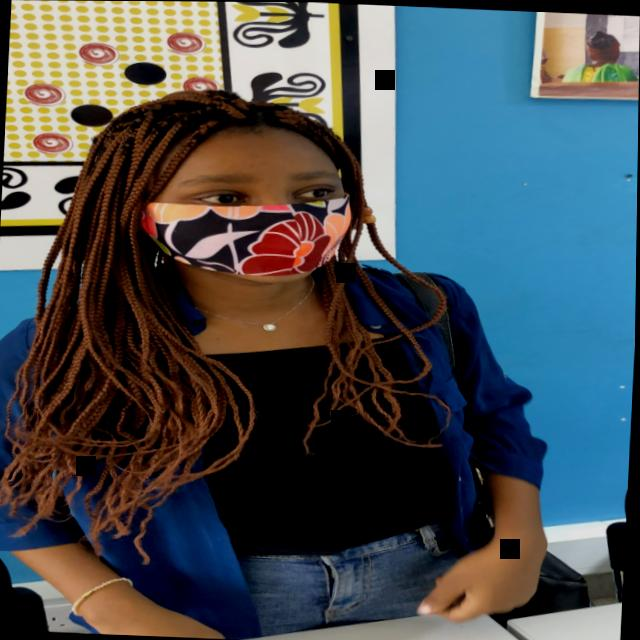Mask: (145, 141, 361, 286)
